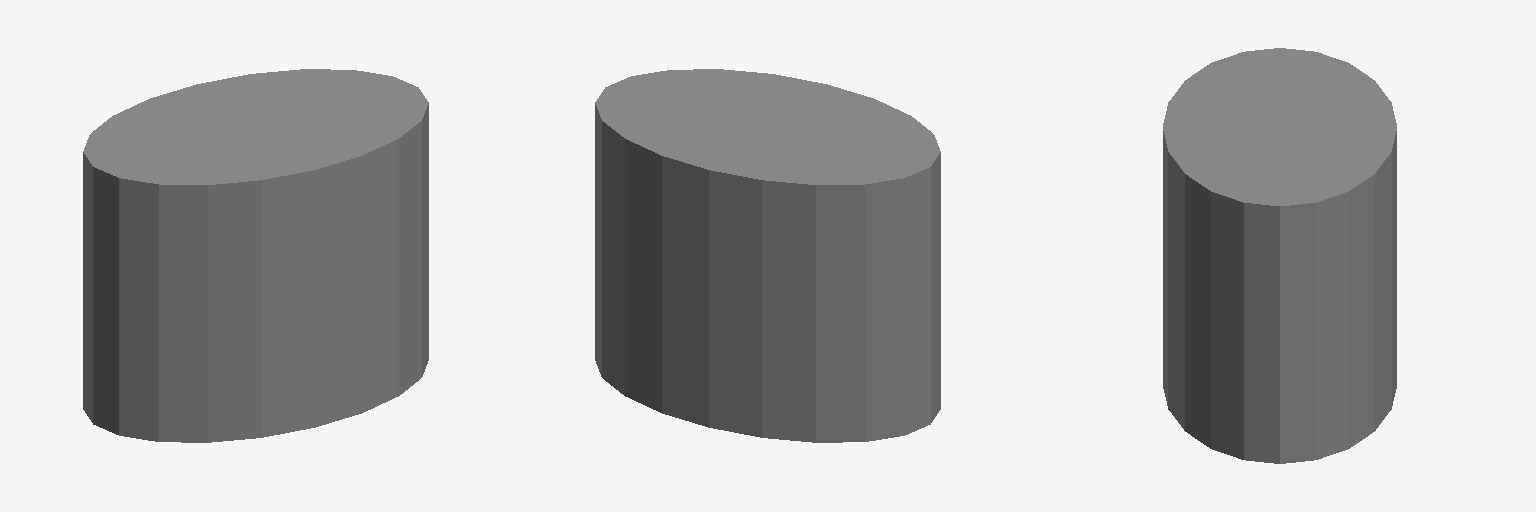
Rendered from xBo.unity_1.obj.
3 renders of one model, left to right at view 1: azimuth 30°, elevation 25°; view 2: azimuth 150°, elevation 25°; view 3: azimuth 270°, elevation 25°, orthographic.
Parts seen in each view (by area): view 1: xBox; view 2: xBox; view 3: xBox.
Part boxes in pixels (left/top/right/bottom): xBox: left=83, top=69, right=428, bottom=442; xBox: left=595, top=69, right=940, bottom=442; xBox: left=1163, top=48, right=1396, bottom=463.
Size of the model in its own units: 16 by 12.11 by 10.